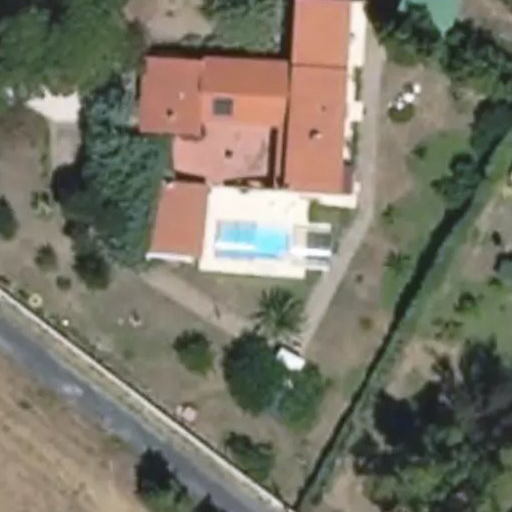pool: (214, 219, 299, 267)
